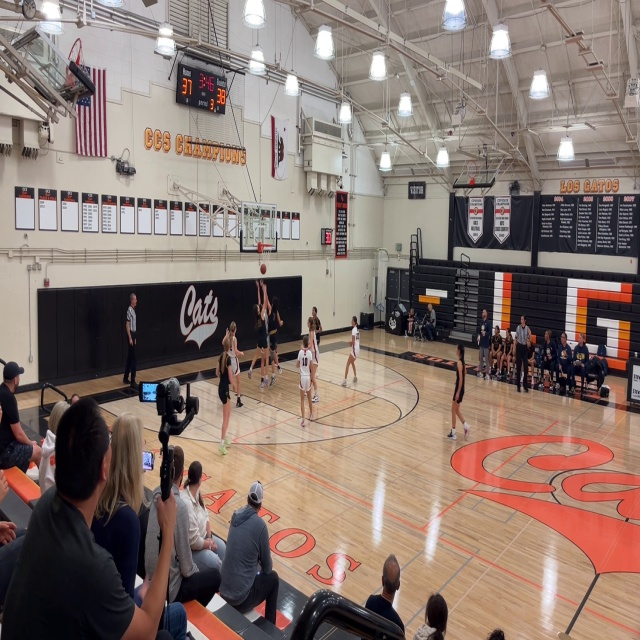Basketball: (260, 264, 266, 274)
